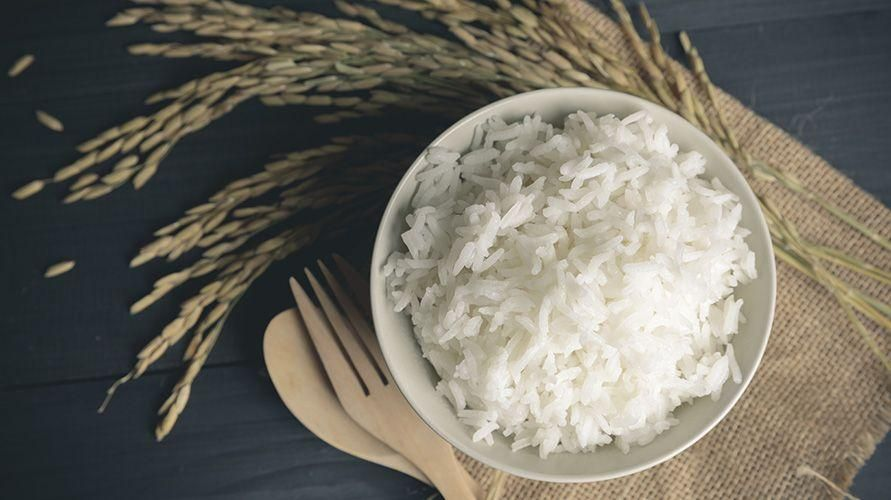Nasi Putih: (352, 121, 806, 451)
